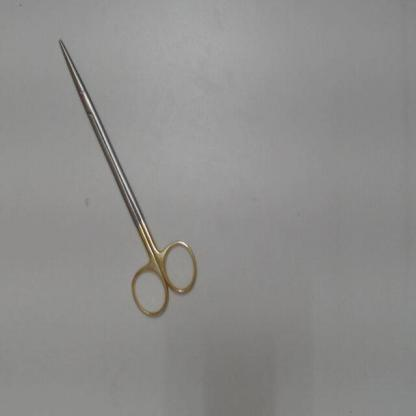7 Metzenbaum Scissors: (56, 29, 204, 322)
